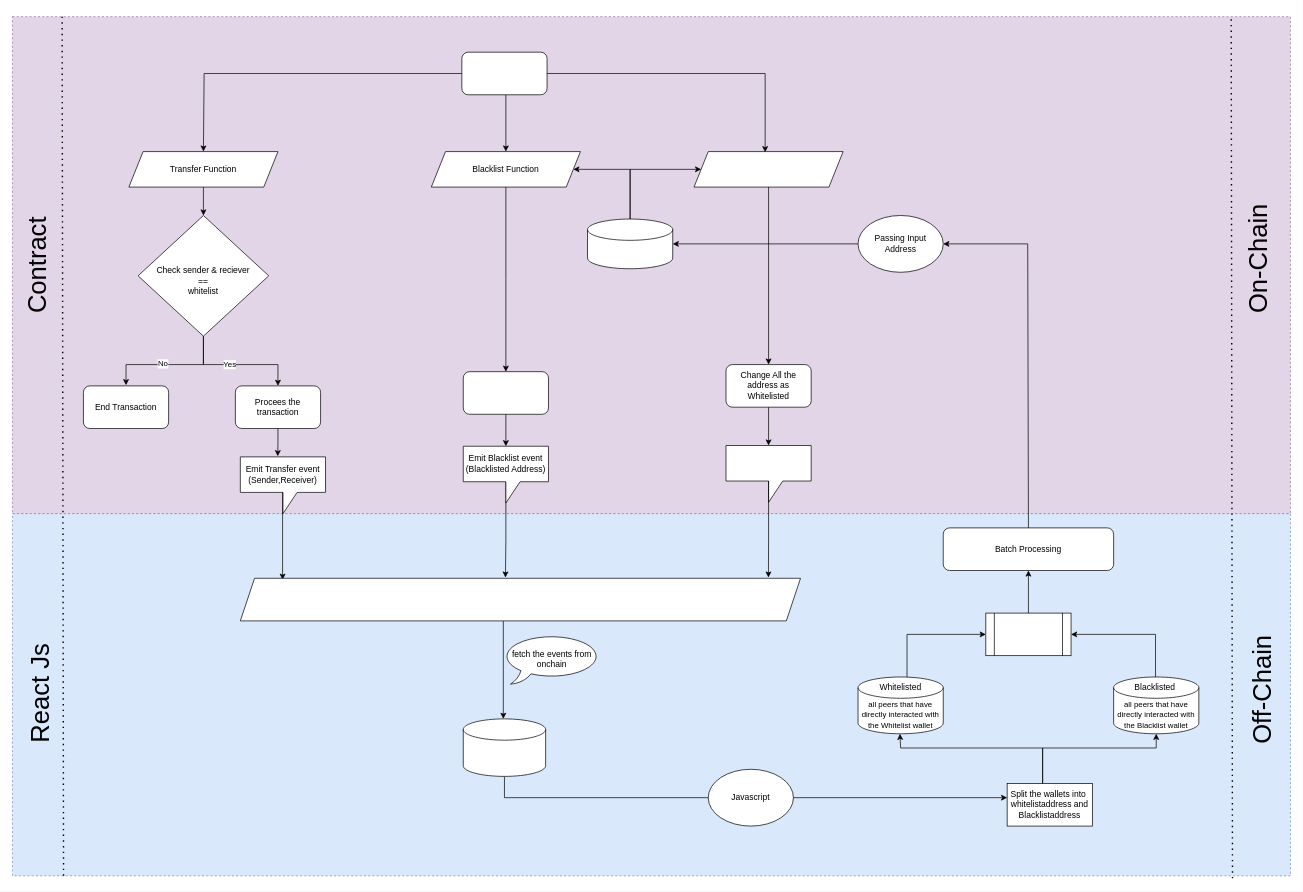
This 1303x892 diagram has some shape labels left out. Here are the shapes that lost their labels. From the top down, the centre of each, then its label:
pixel 504 73: Smart Contract
pixel 768 169: Whitelist Function
pixel 630 243: Blacklist & whitelist Address
pixel 505 392: Change All the address as Blacklisted
pixel 768 473: Emit Whitelist event (Whitelisted Address)
pixel 520 599: Ethereum Client API(JSON RPC)
pixel 1028 634: Web3 Library
pixel 504 747: Database
